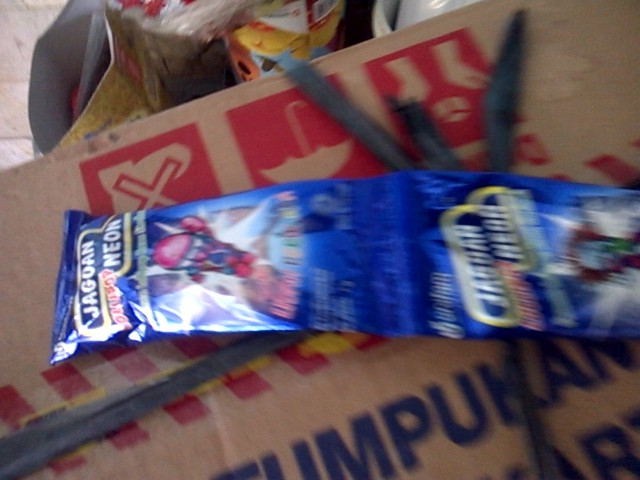jagoan neon: (52, 176, 390, 364), (392, 171, 640, 338)
